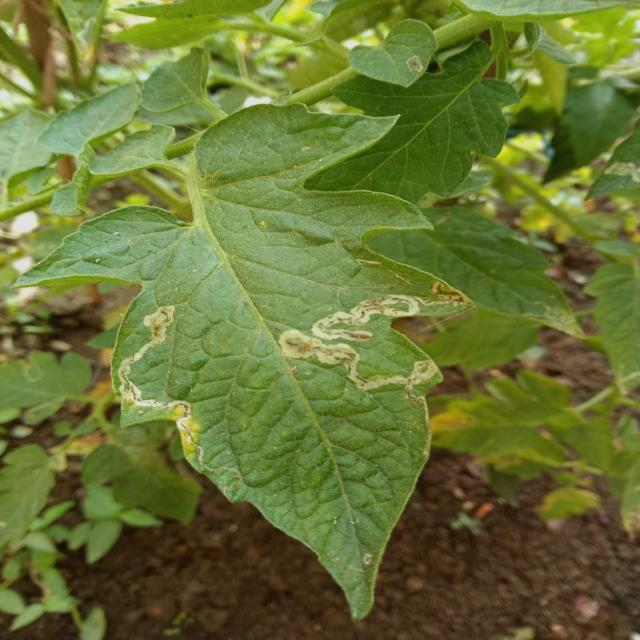Tuta absoluta: (274, 288, 453, 411), (111, 304, 199, 459), (428, 279, 472, 306)
